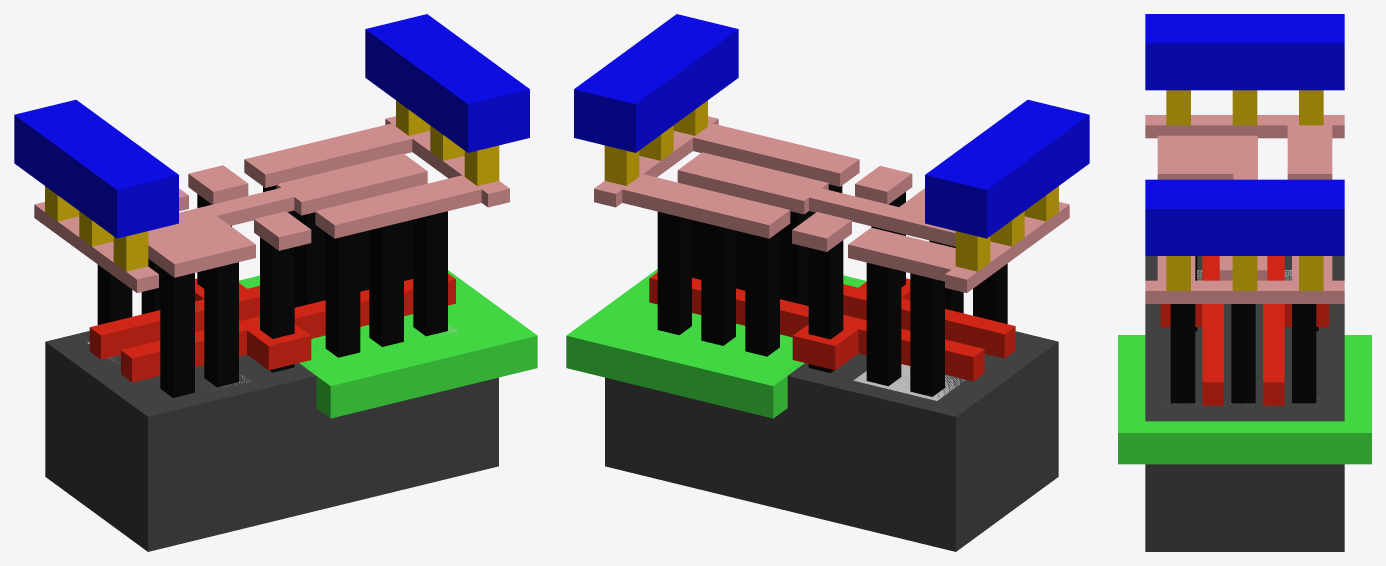
File: sky130_fd_sc_hd__nand2_1.obj
The picture shows the model from 3 angles, left to right: view 1: azimuth 30°, elevation 25°; view 2: azimuth 150°, elevation 25°; view 3: azimuth 270°, elevation 25°; orthographic projection. The views are drawn at different scales.
Visible parts, largest first — view 1: subs, licon, li, metal1, nwell, poly, mcon; view 2: subs, li, licon, metal1, nwell, poly, mcon, diff; view 3: metal1, subs, nwell, li, licon, poly, mcon.
Part boxes in pixels (bbox=[...]): subs: bbox=[45, 331, 498, 551]; licon: bbox=[97, 185, 447, 397]; li: bbox=[34, 116, 509, 292]; metal1: bbox=[14, 14, 529, 238]; nwell: bbox=[239, 270, 537, 418]; poly: bbox=[89, 273, 455, 382]; mcon: bbox=[45, 100, 499, 271]; subs: bbox=[605, 331, 1058, 551]; li: bbox=[594, 116, 1069, 292]; licon: bbox=[657, 184, 1007, 396]; metal1: bbox=[574, 14, 1089, 238]; nwell: bbox=[566, 269, 866, 418]; poly: bbox=[649, 272, 1015, 381]; mcon: bbox=[604, 100, 1058, 271]; diff: bbox=[853, 364, 964, 400]; metal1: bbox=[1145, 14, 1344, 255]; subs: bbox=[1145, 256, 1344, 551]; nwell: bbox=[1118, 335, 1371, 464]; li: bbox=[1145, 115, 1344, 303]; licon: bbox=[1170, 256, 1318, 403]; poly: bbox=[1160, 256, 1329, 405]; mcon: bbox=[1166, 90, 1323, 290].
Bounding box in the file's own units: 3.2 × 2.74 × 1.76.
